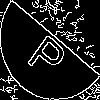P: (25, 25, 75, 82)
